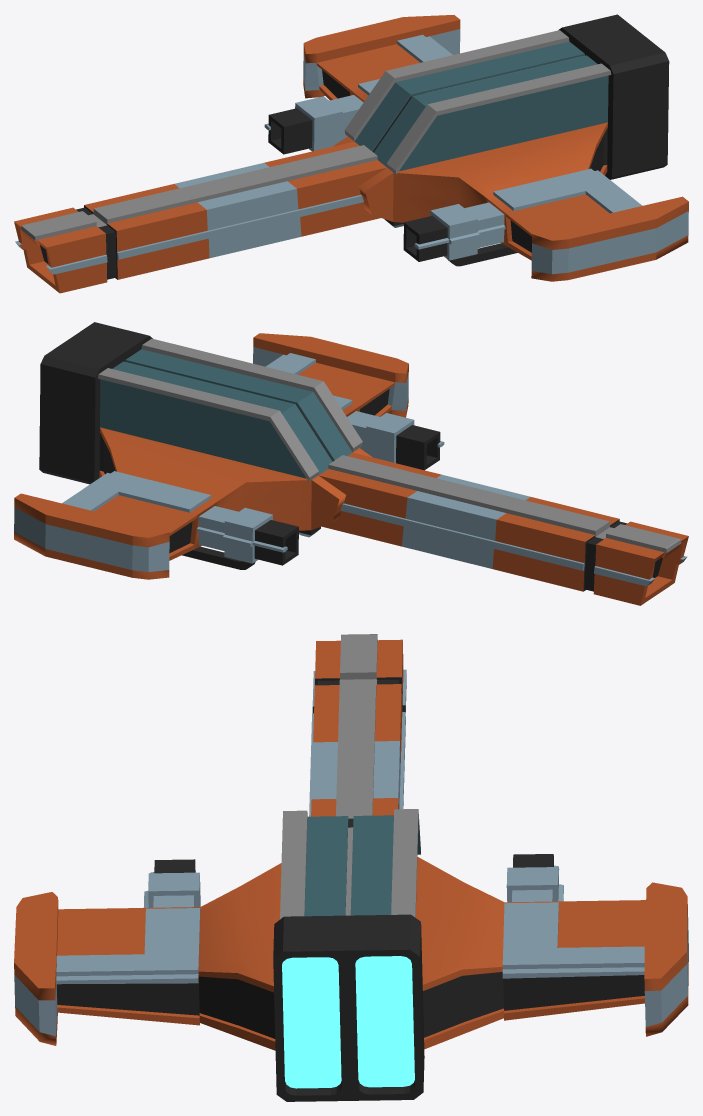
Rendered from spaceship.glb.
3 views of the same model, one above another, from view 1: azimuth 30°, elevation 25°; view 2: azimuth 150°, elevation 25°; view 3: azimuth 270°, elevation 25° (orthographic). The views are drawn at different scales.
Visible parts, largest first — view 1: Cube_2; view 2: Cube_2; view 3: Cube_2.
Boxes of the visible parts, x1,y1,x2,y2 form: Cube_2: (14,14,688,293); Cube_2: (14,322,688,605); Cube_2: (14,634,688,1101).
Bounding box in the file's own units: 6.39 × 1.25 × 4.73.
